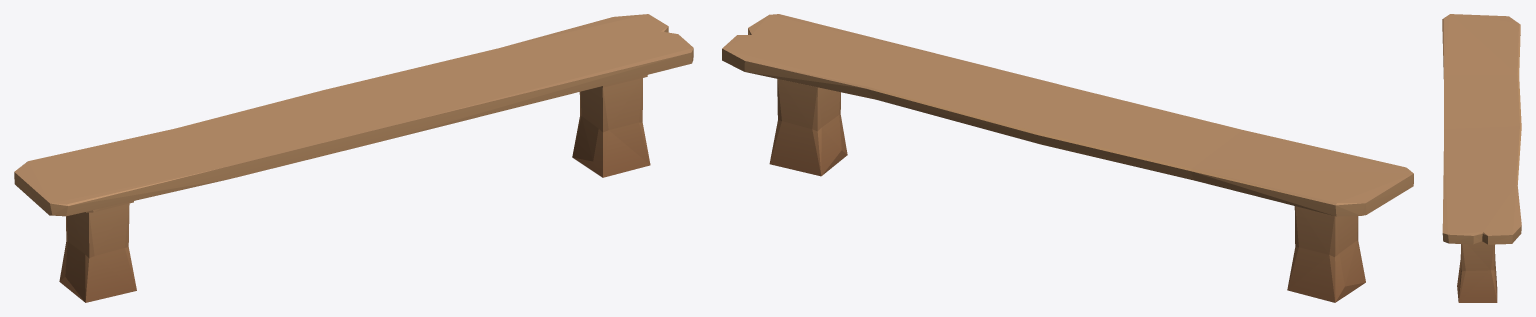
The model's file is SM_Bench_01.fbx.
3 views of the same model, side by side, from view 1: azimuth 30°, elevation 25°; view 2: azimuth 150°, elevation 25°; view 3: azimuth 270°, elevation 25° (orthographic). The views are drawn at different scales.
Parts seen in each view (by area): view 1: SM_Bench_01; view 2: SM_Bench_01; view 3: SM_Bench_01.
Boxes of the visible parts, x1,y1,x2,y2 form: SM_Bench_01: [14, 14, 693, 302]; SM_Bench_01: [722, 14, 1413, 302]; SM_Bench_01: [1442, 14, 1521, 302].
Size of the model in its own units: 271 by 45.8 by 41.08.
